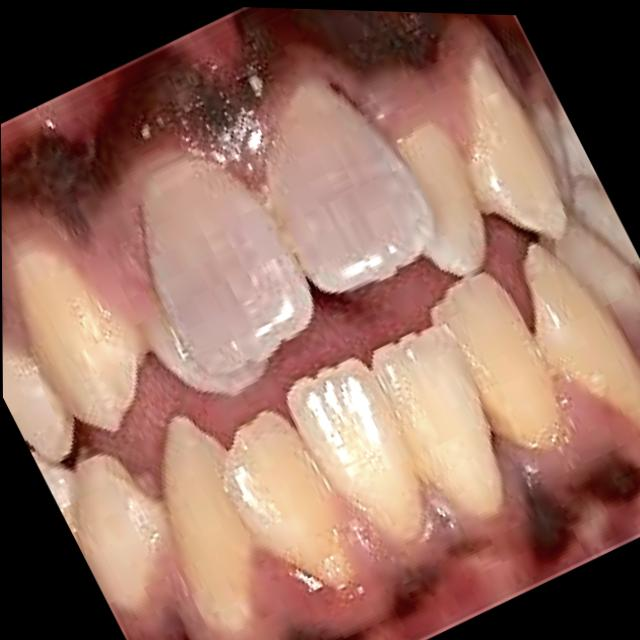tooth-discoloration: (371, 328, 501, 519), (288, 359, 423, 542), (224, 412, 352, 588)
